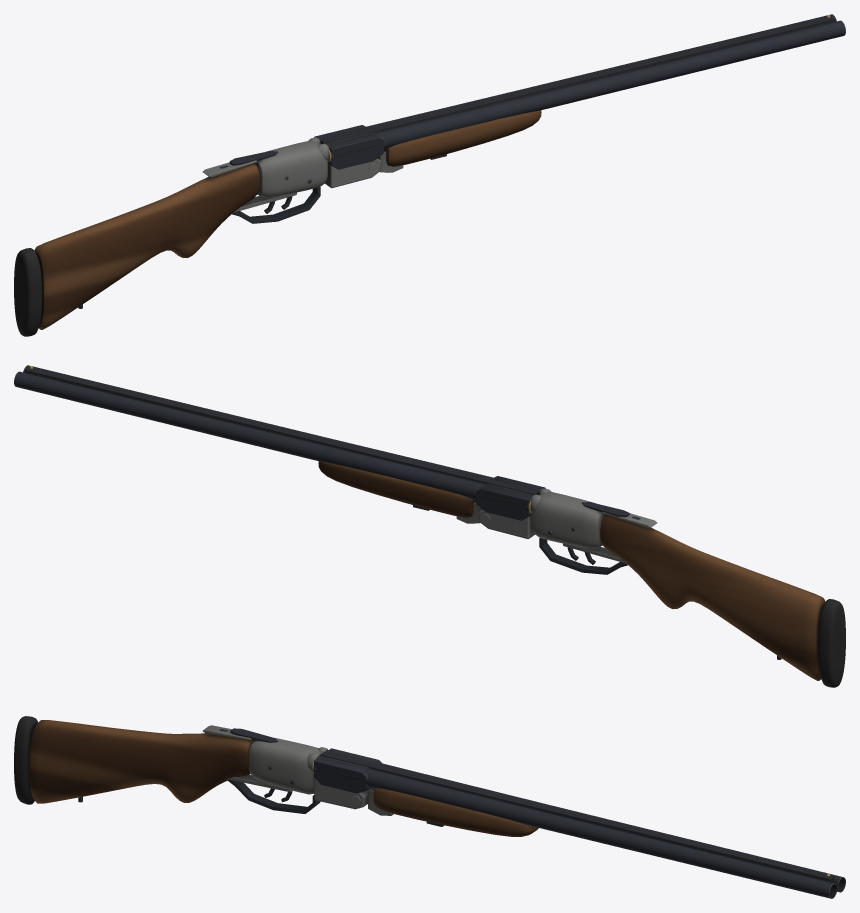
The model's file is izh43.glb.
The picture shows the model from 3 angles, top to bottom: view 1: azimuth 30°, elevation 25°; view 2: azimuth 150°, elevation 25°; view 3: azimuth 330°, elevation 25°; orthographic projection.
Visible parts, largest first — view 1: action, barrels; view 2: action, barrels; view 3: action, barrels.
Part boxes in pixels (x1=…): action: x1=14, y1=137, x2=381, y2=336; barrels: x1=314, y1=14, x2=845, y2=172; action: x1=478, y1=488, x2=845, y2=687; barrels: x1=14, y1=365, x2=545, y2=523; action: x1=14, y1=716, x2=369, y2=813; barrels: x1=313, y1=748, x2=845, y2=898.
Size of the model in its own units: 1.15 by 0.1682 by 0.0463.
Materials: 1 (1 with a texture image).
